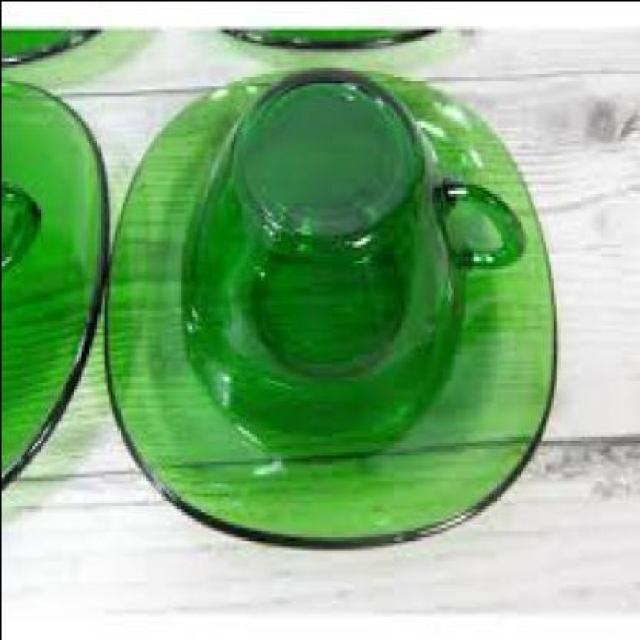GLASS: (105, 63, 558, 546), (181, 57, 527, 451), (2, 70, 108, 488), (3, 161, 42, 281)
